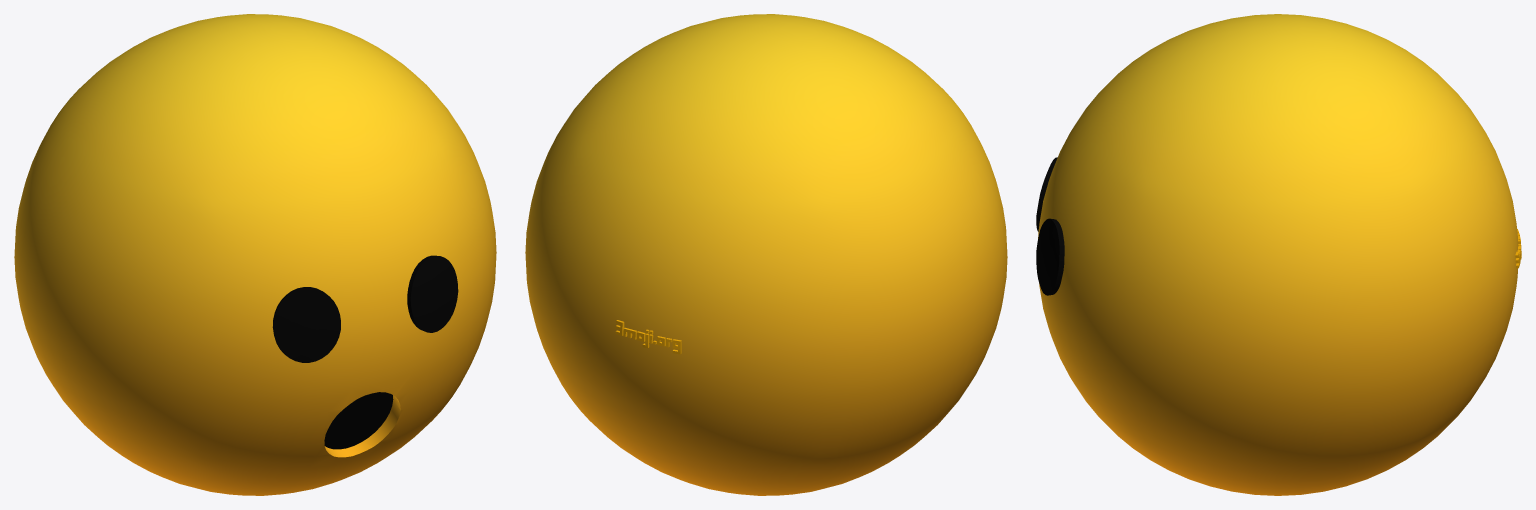
Rendered from face_with_open_mouth.glb.
3 views of the same model, side by side, from view 1: azimuth 30°, elevation 25°; view 2: azimuth 150°, elevation 25°; view 3: azimuth 270°, elevation 25° (orthographic).
Parts seen in each view (by area): view 1: face_with_open_mouth; view 2: face_with_open_mouth; view 3: face_with_open_mouth.
Part boxes in pixels (<box>): face_with_open_mouth: <box>14,14,496,495</box>; face_with_open_mouth: <box>525,14,1007,495</box>; face_with_open_mouth: <box>1036,14,1521,495</box>.
Bounding box in the file's own units: 1.69 × 1.69 × 1.7.
1 material, 1 textured.
